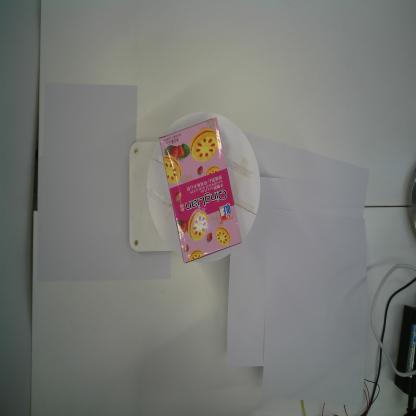Dessert: (160, 118, 242, 264)
